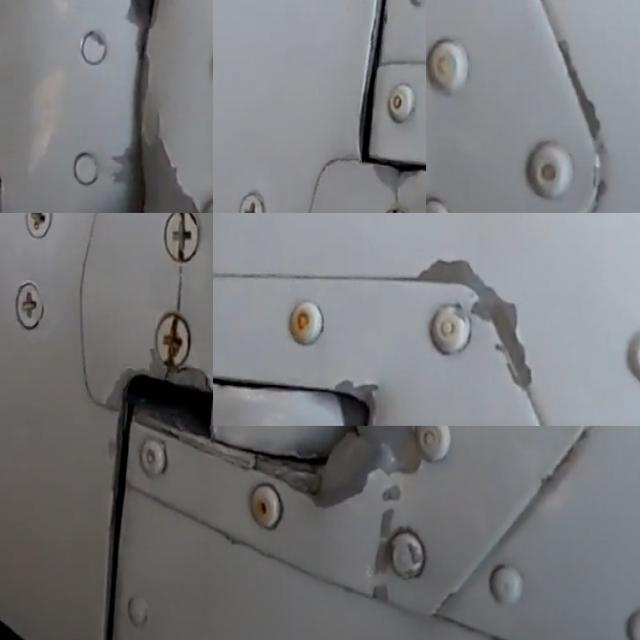crack: (172, 273, 192, 321)
